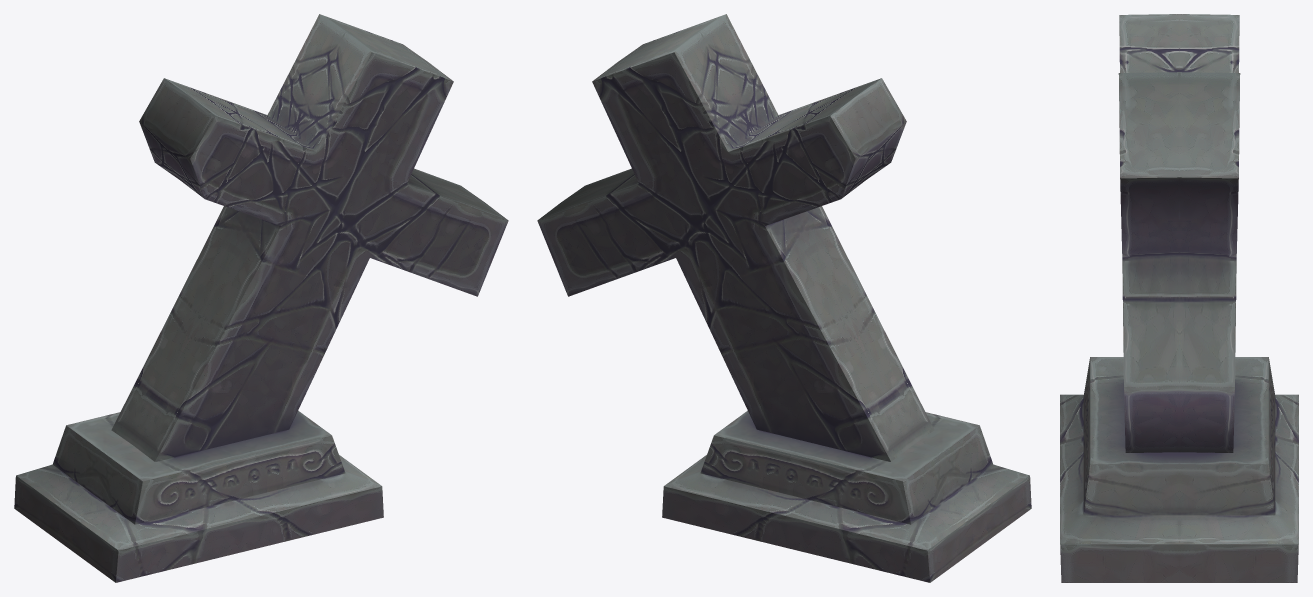
File: cem_prop_statue_01.fbx
3 renders of one model, left to right at view 1: azimuth 30°, elevation 25°; view 2: azimuth 150°, elevation 25°; view 3: azimuth 270°, elevation 25°, orthographic. The views are drawn at different scales.
Parts seen in each view (by area): view 1: cem_prop_statue_01; view 2: cem_prop_statue_01; view 3: cem_prop_statue_01.
Part boxes in pixels (x1=…): cem_prop_statue_01: x1=14, y1=14, x2=508, y2=582; cem_prop_statue_01: x1=537, y1=14, x2=1031, y2=582; cem_prop_statue_01: x1=1060, y1=14, x2=1298, y2=582.
Bounding box in the file's own units: 355 × 360 × 150.
